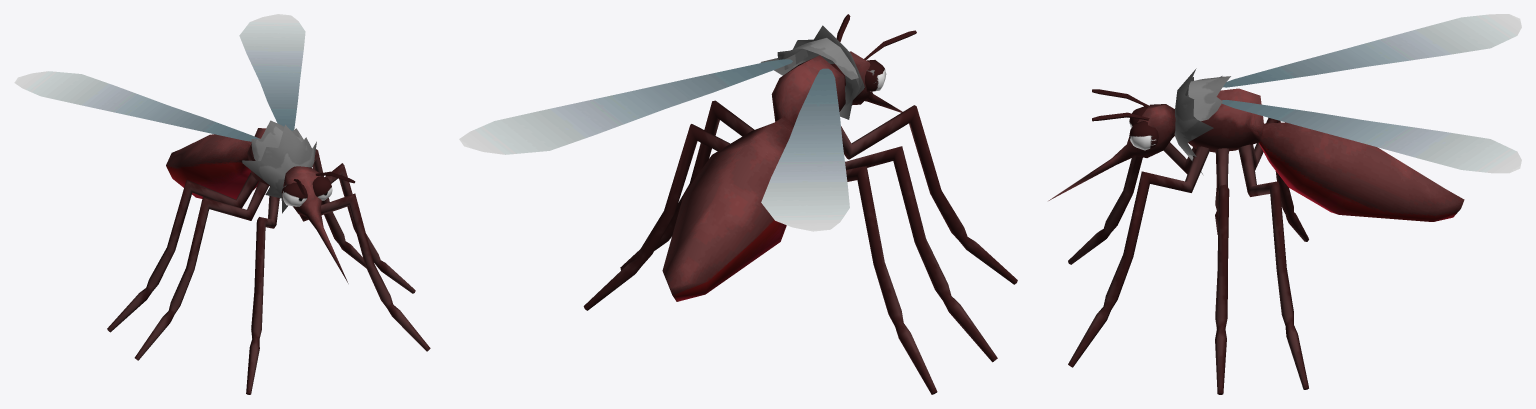
The model's file is Mosquito_1.FBX.
3 renders of one model, left to right at view 1: azimuth 30°, elevation 25°; view 2: azimuth 150°, elevation 25°; view 3: azimuth 270°, elevation 25°, orthographic. The views are drawn at different scales.
Parts seen in each view (by area): view 1: Mosquito_1; view 2: Mosquito_1; view 3: Mosquito_1.
Boxes of the visible parts, x1,y1,x2,y2 form: Mosquito_1: (14, 14, 430, 394); Mosquito_1: (459, 14, 1017, 394); Mosquito_1: (1048, 14, 1521, 394).
Bounding box in the file's own units: 0.7225 × 0.5175 × 0.9005.
